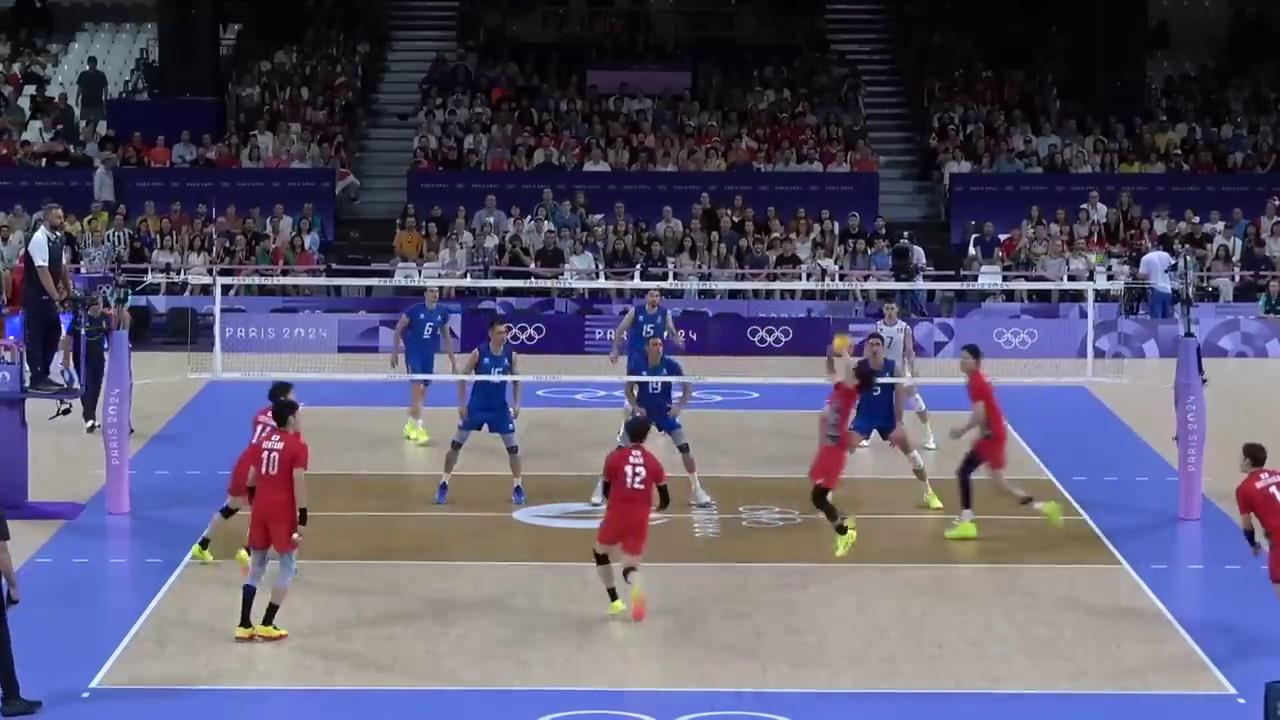ball: (831, 332, 853, 352)
